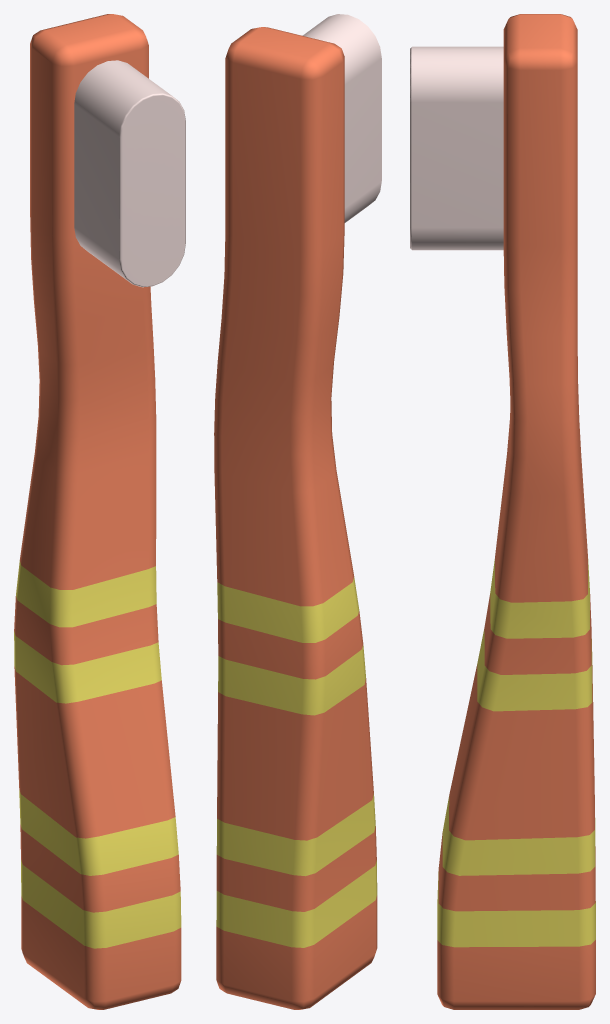
Rendered from Public_20_Toothbrush_4.glb.
The picture shows the model from 3 angles, left to right: view 1: azimuth 30°, elevation 25°; view 2: azimuth 150°, elevation 25°; view 3: azimuth 270°, elevation 25°; orthographic projection. The views are drawn at different scales.
Visible parts, largest first — view 1: Public_20_Toothbrush_4; view 2: Public_20_Toothbrush_4; view 3: Public_20_Toothbrush_4.
Part boxes in pixels (x1,y1,x2,y2): Public_20_Toothbrush_4: [14, 14, 185, 1009]; Public_20_Toothbrush_4: [214, 14, 381, 1009]; Public_20_Toothbrush_4: [410, 14, 595, 1009].
Bounding box in the file's own units: 0.3434 × 2.68 × 0.4685.
1 material, 1 textured.
